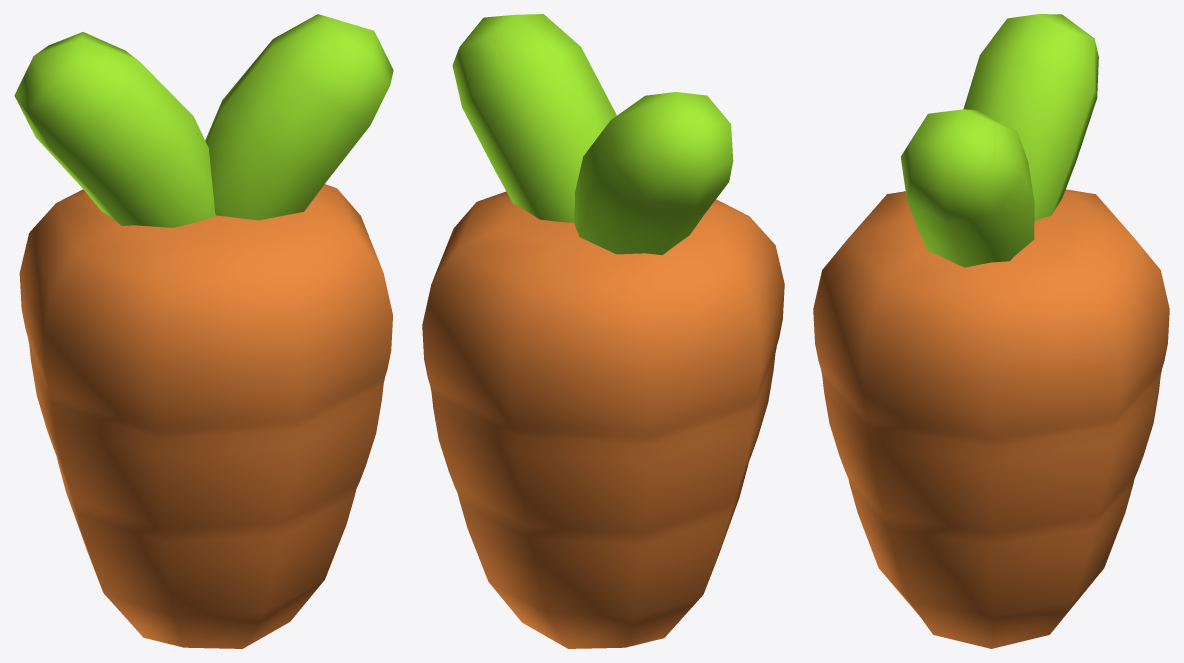
Rendered from carrot stage 2.glb.
The picture shows the model from 3 angles, left to right: view 1: azimuth 30°, elevation 25°; view 2: azimuth 150°, elevation 25°; view 3: azimuth 270°, elevation 25°; orthographic projection. The views are drawn at different scales.
Parts seen in each view (by area): view 1: Carrot Stage 2; view 2: Carrot Stage 2; view 3: Carrot Stage 2.
Part boxes in pixels (left/top/right/bottom): Carrot Stage 2: left=14, top=14, right=393, bottom=648; Carrot Stage 2: left=422, top=14, right=784, bottom=648; Carrot Stage 2: left=813, top=14, right=1169, bottom=648.
Bounding box in the file's own units: 0.2326 × 0.4178 × 0.2326.
1 material, 1 textured.
